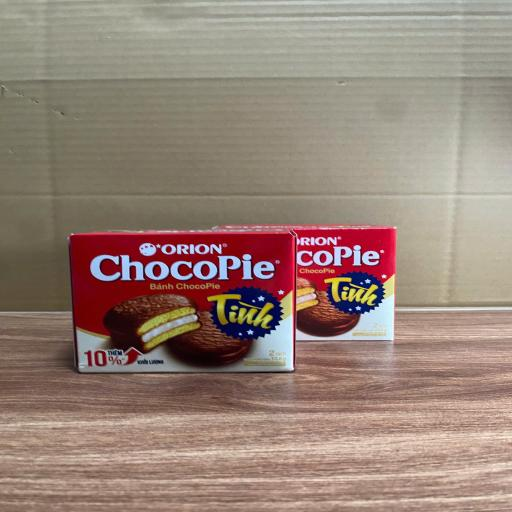chocopie: (68, 235, 296, 370), (293, 230, 394, 339)
